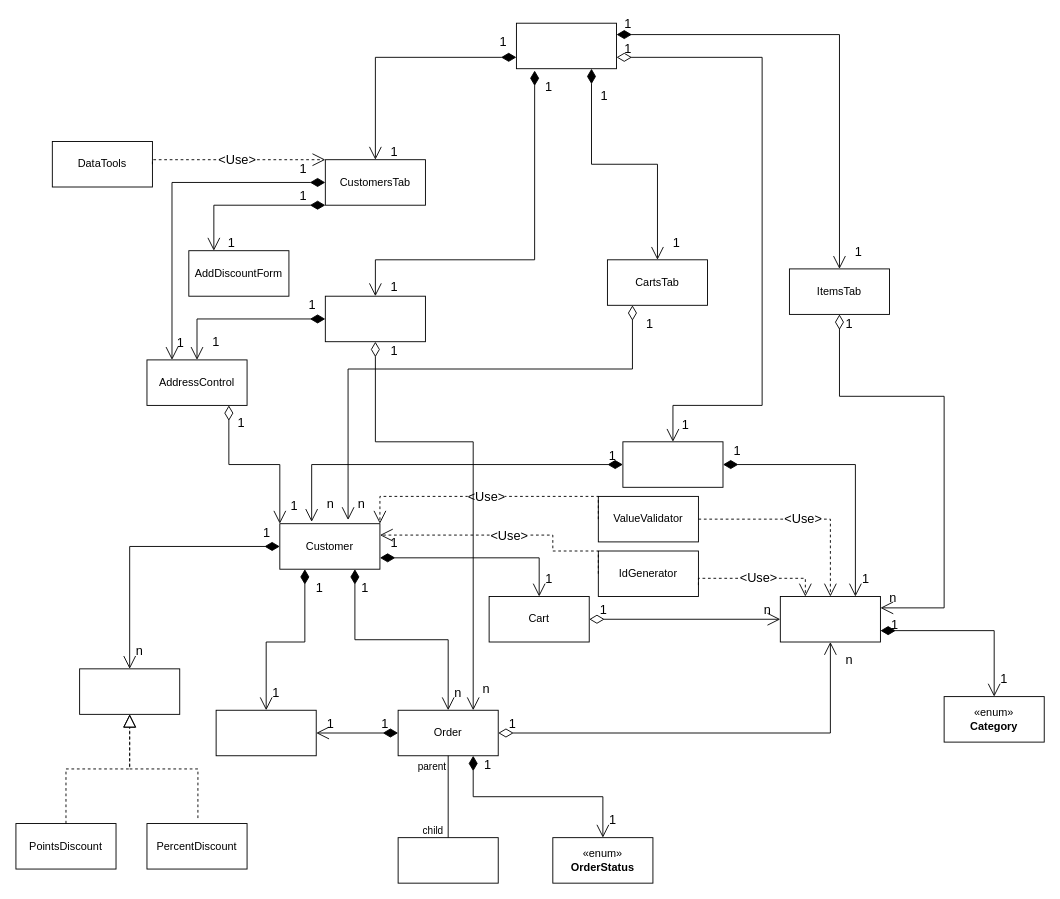
Image size: 1060x899. Some labels were removed from this diagram. The box of each missing label's shape, as (x1, y1, x2, y2) in pixels:
Address: (215, 709, 316, 756)
Item: (779, 596, 880, 642)
MainForm: (516, 22, 617, 69)
OrdersTab: (324, 295, 425, 342)
PriorityOrder: (397, 837, 498, 883)
Store: (622, 441, 723, 487)
«interface» IDiscount: (79, 668, 180, 714)
